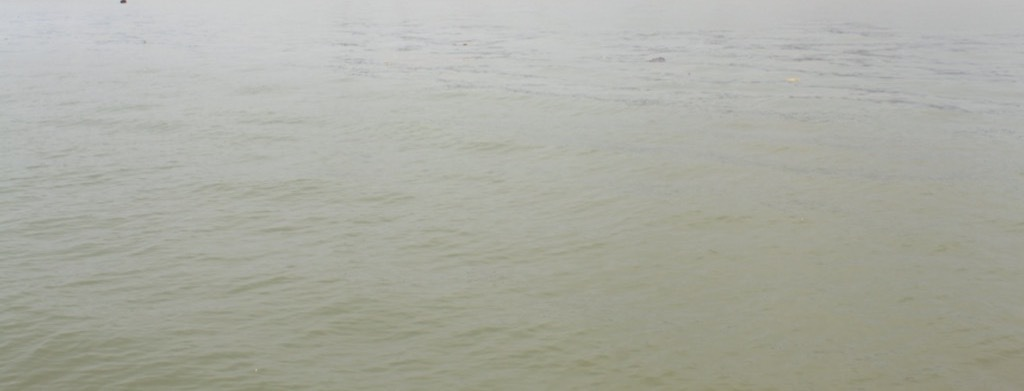organic: (110, 1, 140, 11)
plastic: (773, 67, 809, 96)
